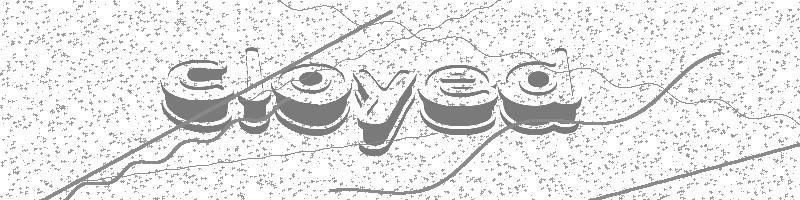c: (160, 58, 234, 134)
d: (498, 46, 583, 136)
e: (418, 64, 498, 136)
l: (237, 46, 272, 135)
o: (272, 62, 353, 137)
y: (353, 68, 417, 159)
